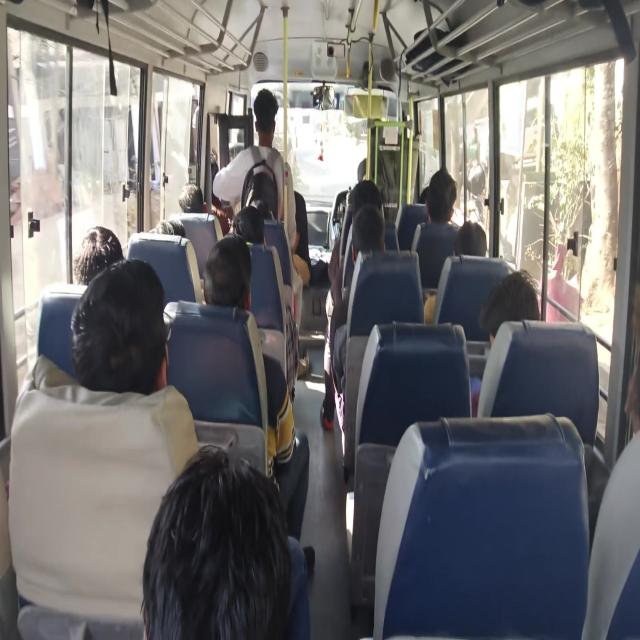person: (148, 470, 311, 640), (88, 259, 172, 402), (244, 95, 298, 181), (490, 275, 540, 366), (207, 246, 257, 334), (74, 211, 116, 279), (450, 213, 490, 283), (235, 195, 266, 261), (348, 186, 386, 233), (156, 205, 191, 256), (358, 211, 390, 266), (432, 173, 458, 238), (176, 174, 207, 227), (253, 178, 278, 215), (424, 178, 444, 205)
